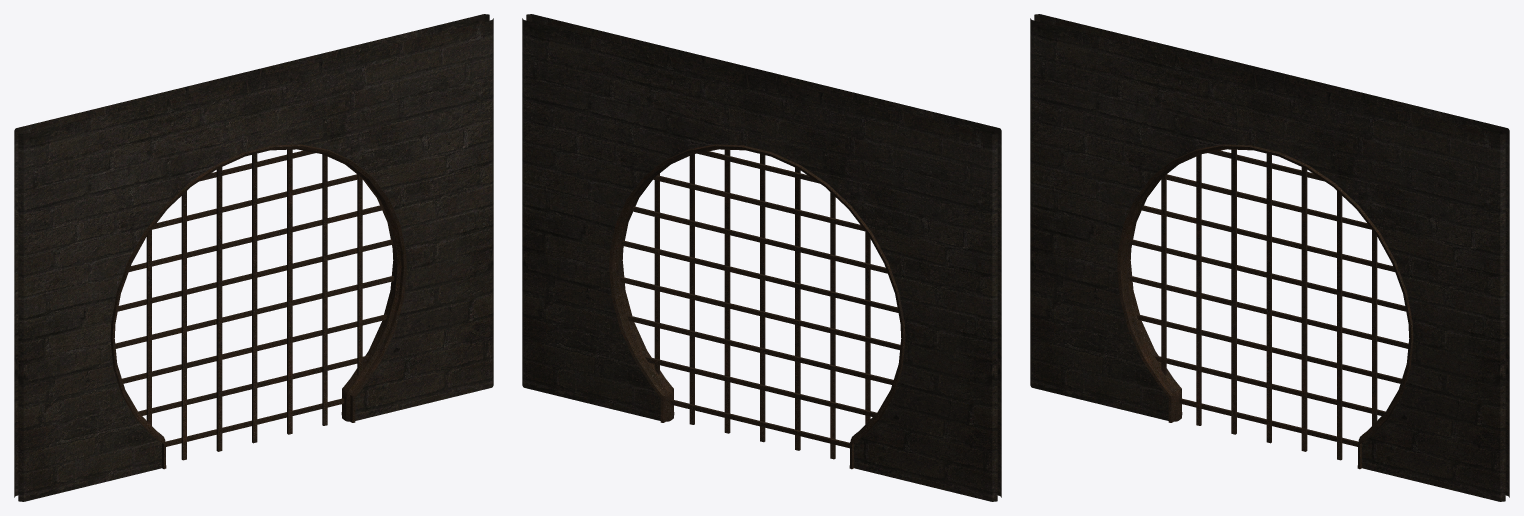
The model's file is wall_1_tunnel_hole_2.glb.
3 views of the same model, side by side, from view 1: azimuth 30°, elevation 25°; view 2: azimuth 150°, elevation 25°; view 3: azimuth 330°, elevation 25° (orthographic).
Parts seen in each view (by area): view 1: wall_1_tunnel_hole_2; view 2: wall_1_tunnel_hole_2; view 3: wall_1_tunnel_hole_2.
Boxes of the visible parts, <box> form: wall_1_tunnel_hole_2: <box>14,14,493,501</box>; wall_1_tunnel_hole_2: <box>522,14,1001,501</box>; wall_1_tunnel_hole_2: <box>1030,14,1509,501</box>.
Bounding box in the file's own units: 4.06 × 3 × 0.1697.
Materials: 2 (2 with a texture image).
